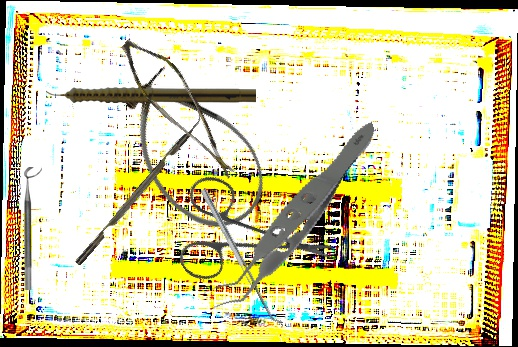Cannula: (100, 51, 286, 251)
Chopper: (68, 106, 210, 266)
Fixation Ring: (24, 167, 42, 290)
Handpiece: (46, 84, 256, 103)
Iris Scissors: (147, 138, 338, 331)
Micro Scissor: (100, 31, 263, 180)
Spatula Surgical: (200, 185, 284, 328)
Tissue Forceps: (166, 118, 414, 315)
